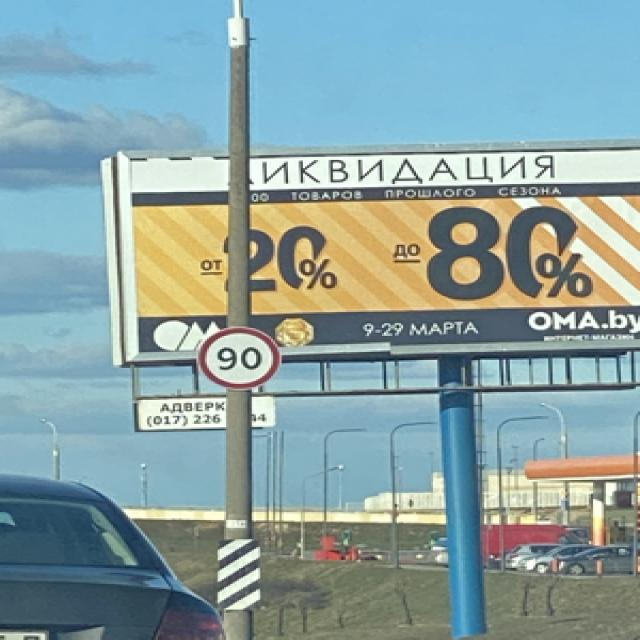speedlimit: (194, 328, 275, 387)
